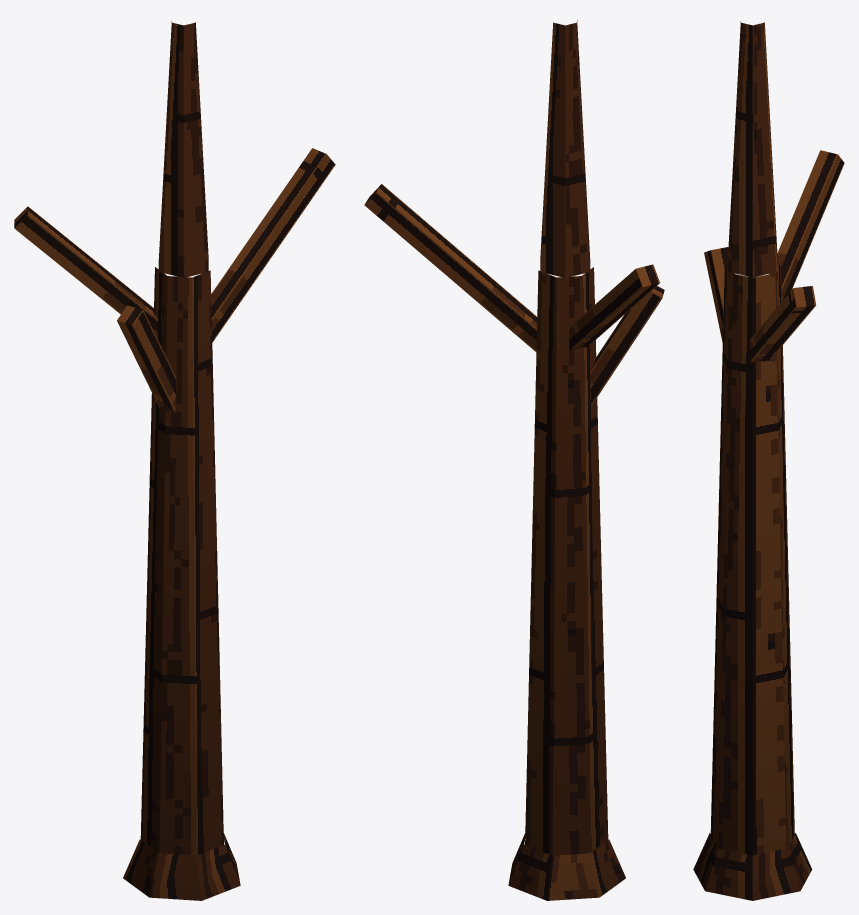
The model's file is birch_3_trunk.glb.
The picture shows the model from 3 angles, left to right: view 1: azimuth 30°, elevation 25°; view 2: azimuth 150°, elevation 25°; view 3: azimuth 270°, elevation 25°; orthographic projection.
Parts seen in each view (by area): view 1: birch_3_trunk; view 2: birch_3_trunk; view 3: birch_3_trunk.
Boxes of the visible parts, x1=… form: birch_3_trunk: x1=14, y1=21, x2=335, y2=900; birch_3_trunk: x1=364, y1=20, x2=664, y2=900; birch_3_trunk: x1=693, y1=21, x2=844, y2=900.
Bounding box in the file's own units: 2.08 × 5.57 × 0.8931.
Materials: 1 (1 with a texture image).
